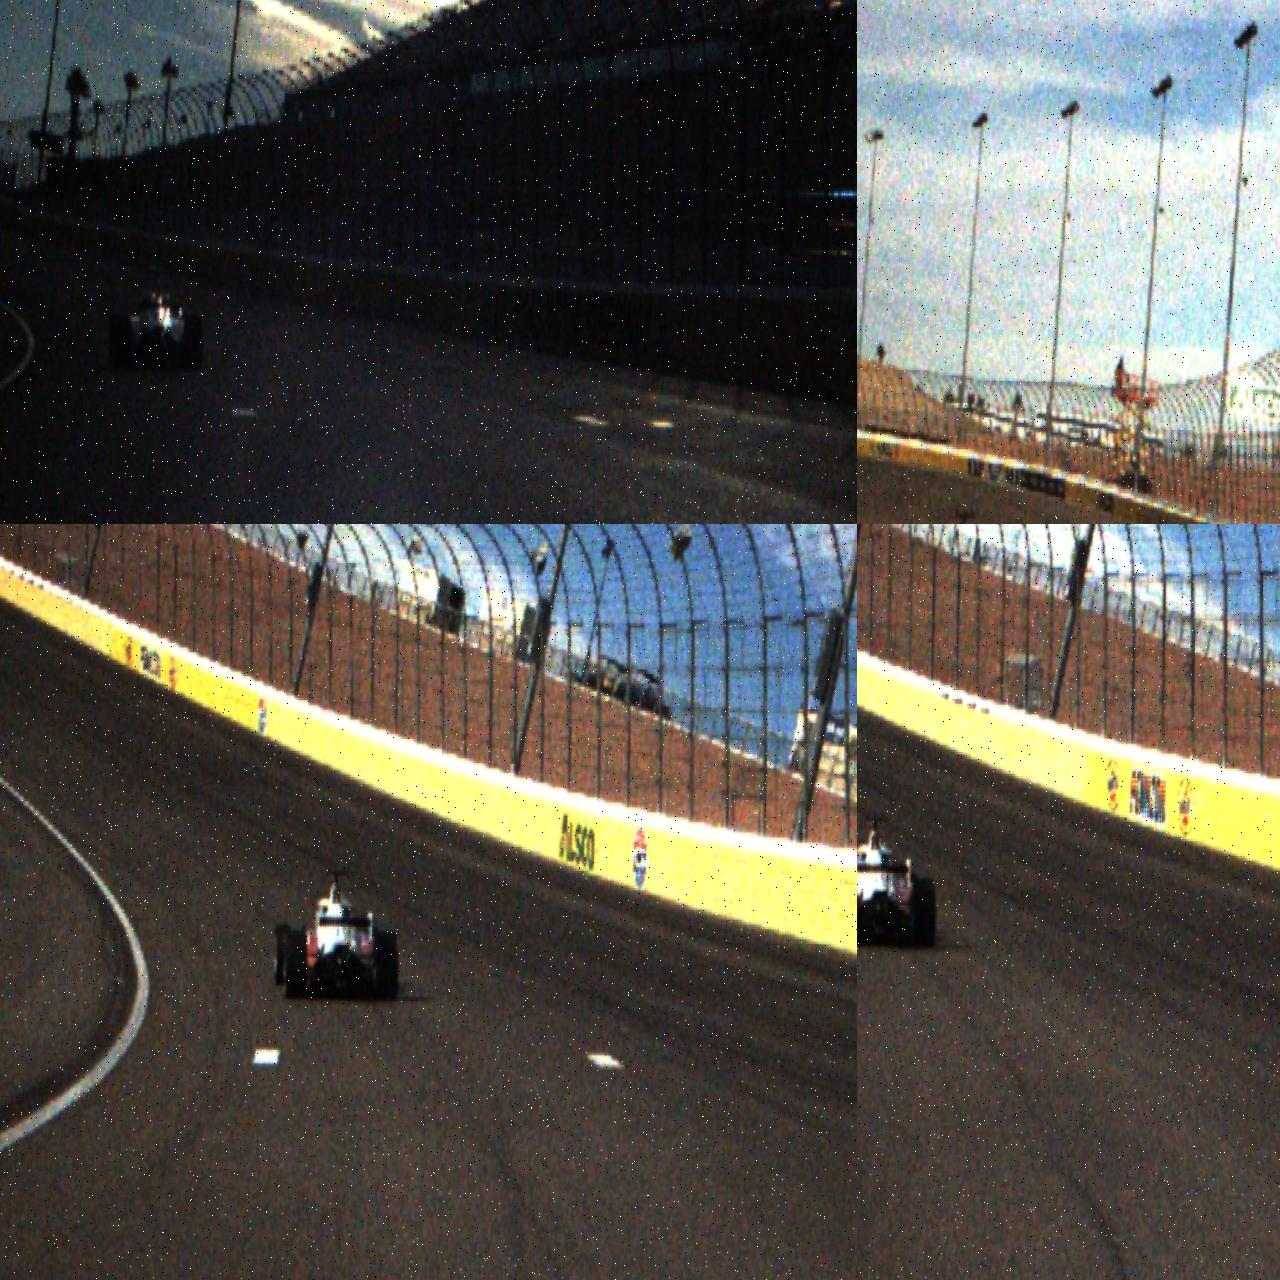AV: (274, 867, 401, 1004), (106, 264, 205, 373), (857, 813, 937, 947)
Wheel: (374, 931, 399, 1001), (912, 878, 936, 948), (284, 930, 306, 1000), (108, 314, 132, 370), (274, 924, 292, 986), (184, 315, 203, 372)
